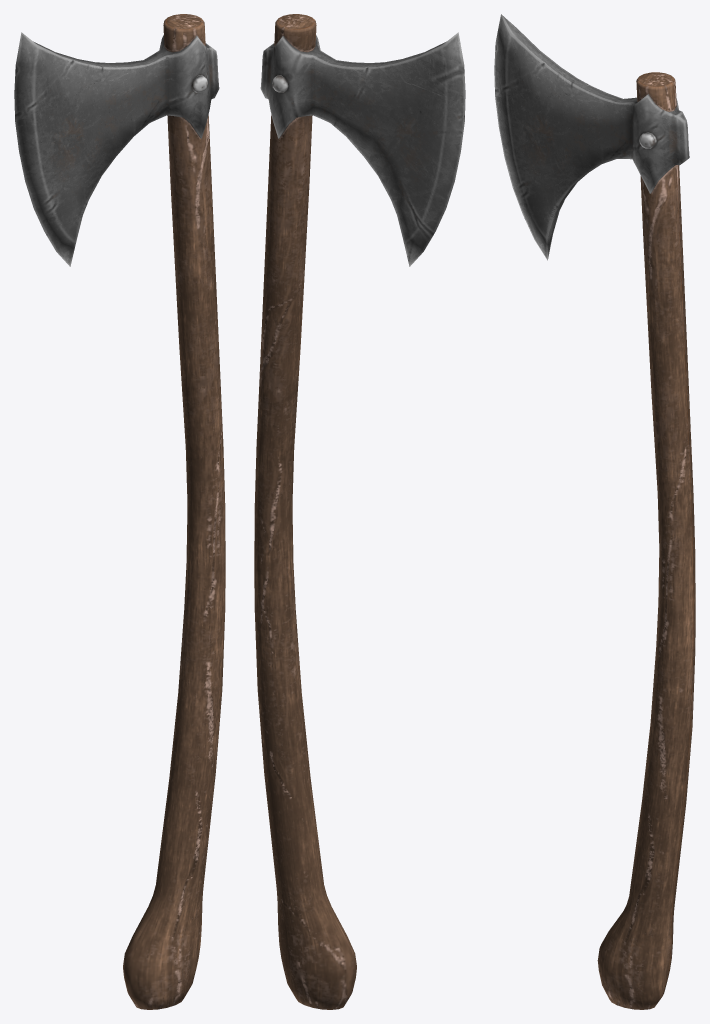
Rendered from SM_Axe_04.fbx.
3 renders of one model, left to right at view 1: azimuth 30°, elevation 25°; view 2: azimuth 150°, elevation 25°; view 3: azimuth 330°, elevation 25°, orthographic. The views are drawn at different scales.
Visible parts, largest first — view 1: SM_Axe_04_LOD0; view 2: SM_Axe_04_LOD0; view 3: SM_Axe_04_LOD0.
Part boxes in pixels (box(x1,y1,x2,y2)): SM_Axe_04_LOD0: box(14, 14, 225, 1009); SM_Axe_04_LOD0: box(254, 14, 465, 1009); SM_Axe_04_LOD0: box(494, 14, 695, 1009).
Size of the model in its own units: 16.68 by 4.04 by 76.62.
1 material, 1 textured.
